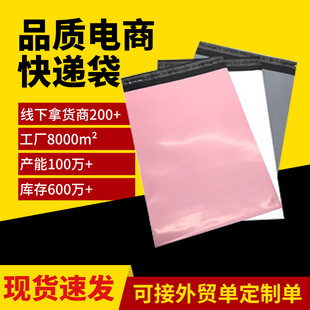塑料袋: (117, 24, 310, 246)
